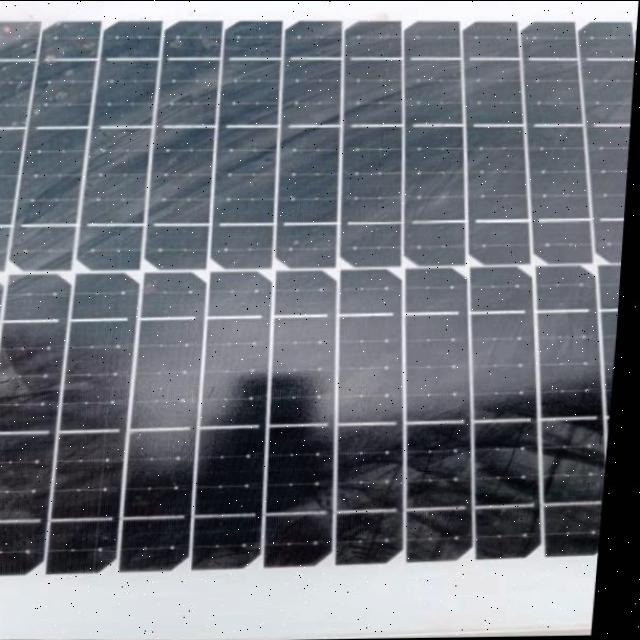Surface Contaminant: (0, 11, 278, 502)
